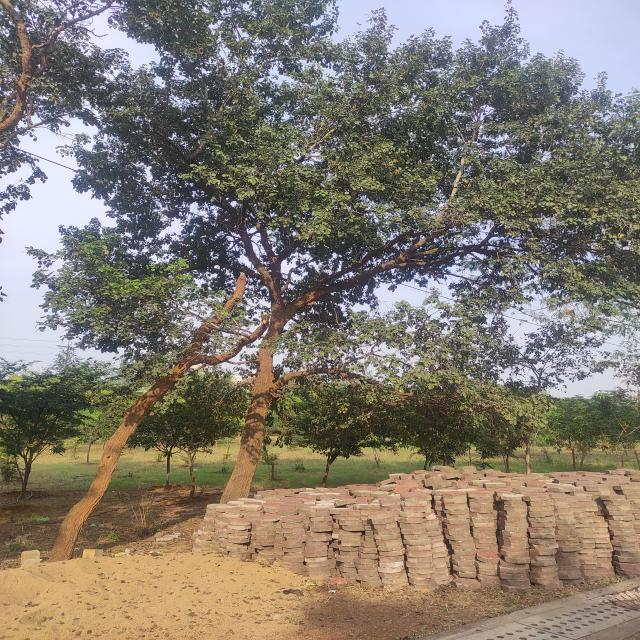Devakanchan tree: (1, 1, 640, 352)
